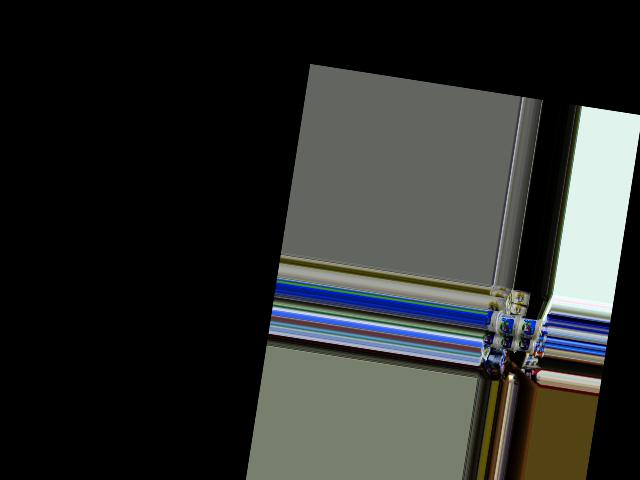cotage: (496, 331, 518, 351)
